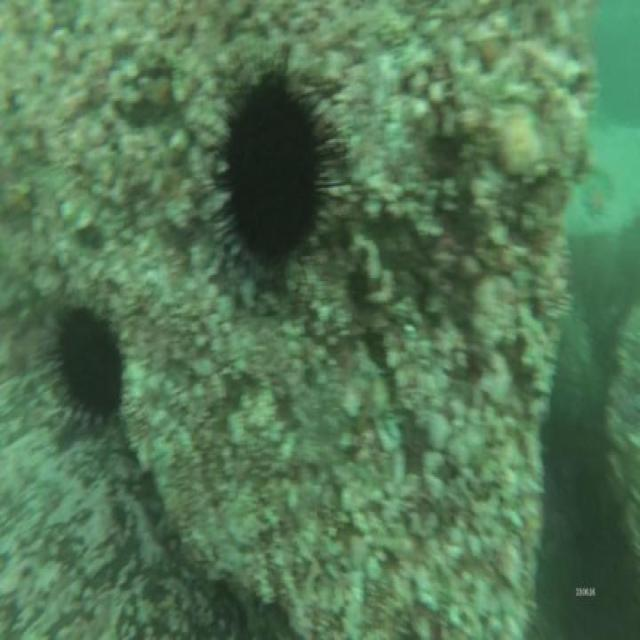echinus: (217, 65, 323, 276), (57, 299, 124, 428)
